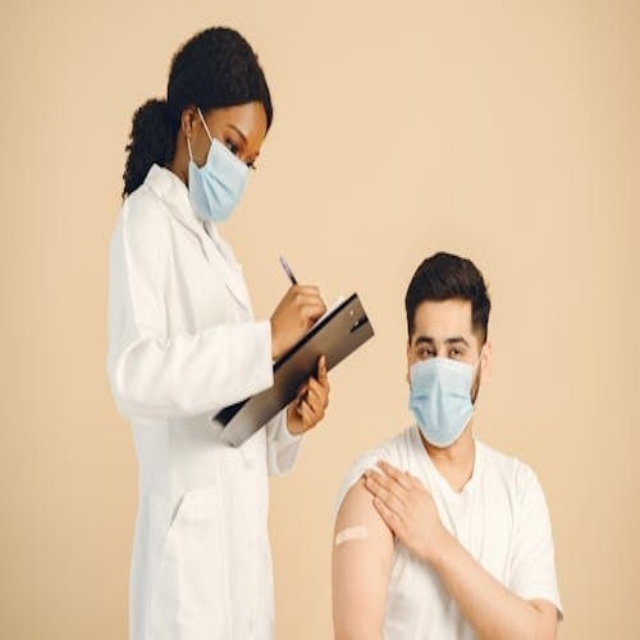Mascara: (187, 109, 249, 223), (409, 350, 480, 447)
Sin_gafas: (218, 113, 264, 169), (407, 329, 474, 361)
Sin_guantes: (360, 461, 442, 562), (268, 275, 329, 363), (287, 353, 329, 435)
